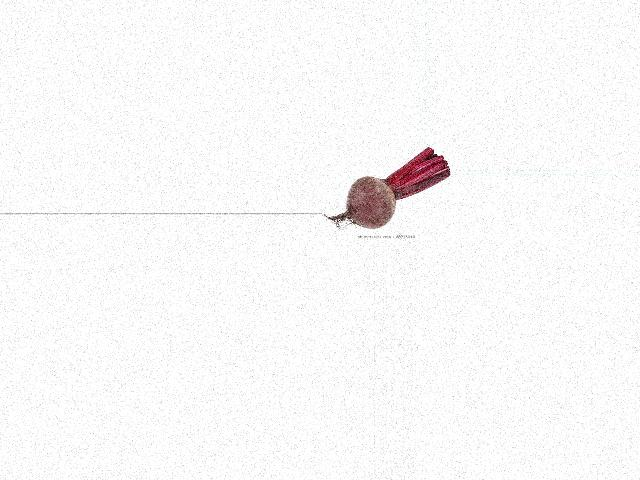beet: (324, 148, 450, 228)
